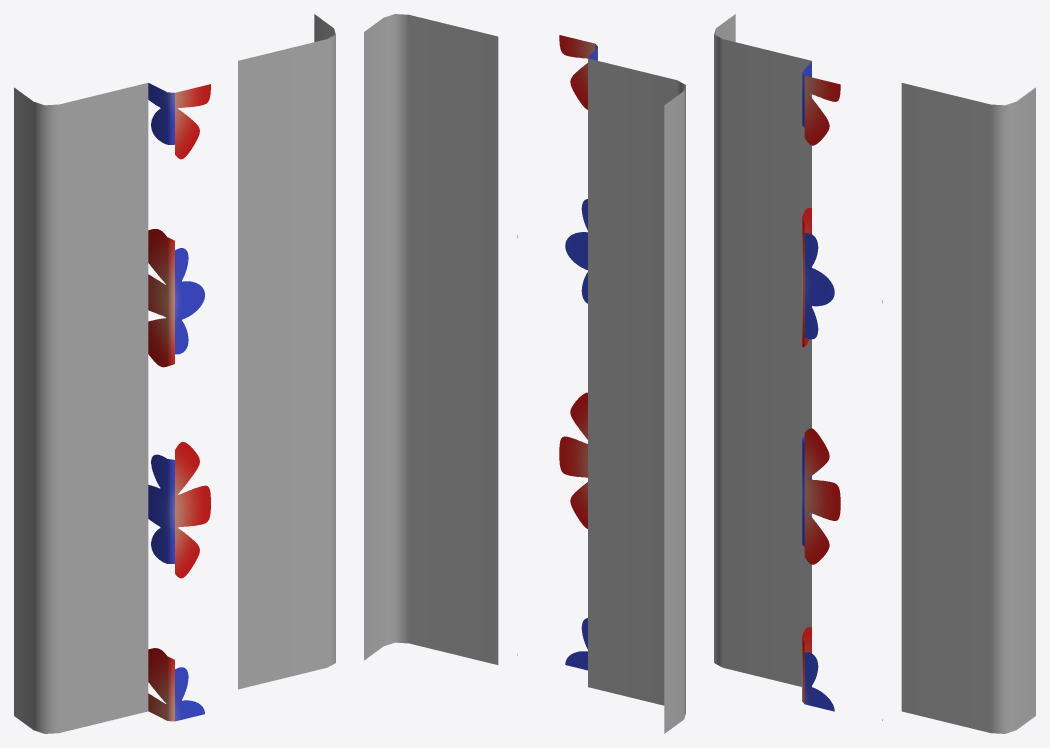
The model's file is SM_SS02_Pillar.fbx.
3 renders of one model, left to right at view 1: azimuth 30°, elevation 25°; view 2: azimuth 150°, elevation 25°; view 3: azimuth 330°, elevation 25°, orthographic.
Parts seen in each view (by area): view 1: SM_SS02_Pillar; view 2: SM_SS02_Pillar; view 3: SM_SS02_Pillar.
Boxes of the visible parts, <box> form: SM_SS02_Pillar: <box>14,14,335,733</box>; SM_SS02_Pillar: <box>364,14,685,733</box>; SM_SS02_Pillar: <box>714,14,1035,733</box>.
Size of the model in its own units: 150 by 300 by 39.7.
